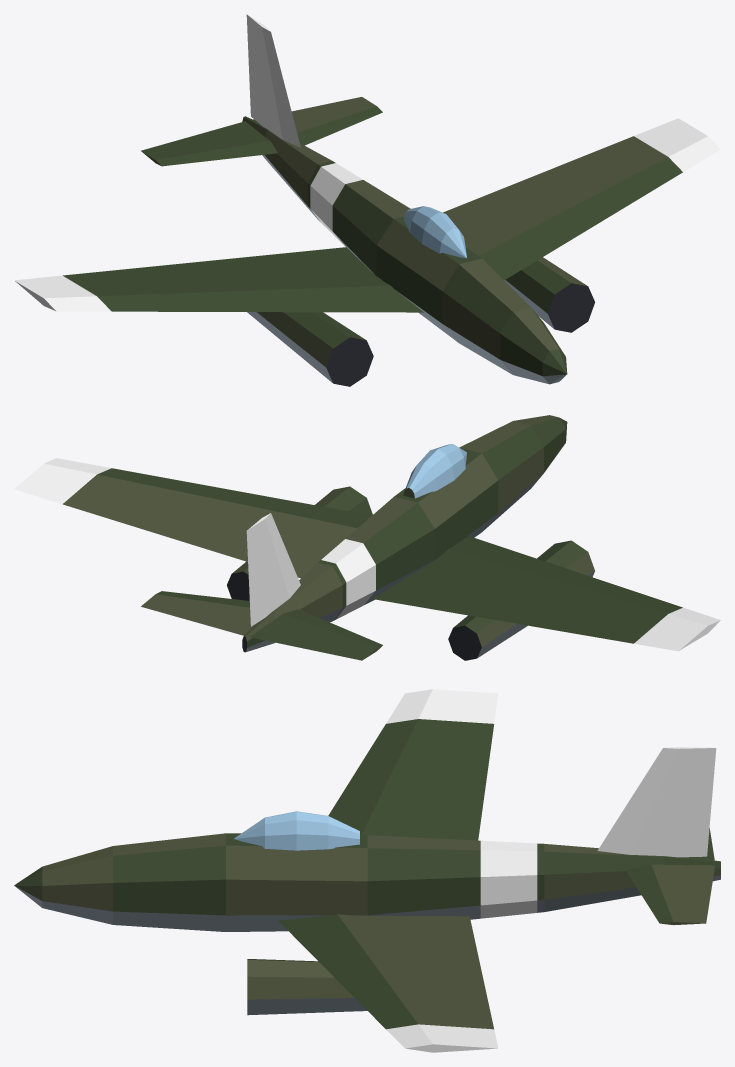
3 renders of one model, top to bottom at view 1: azimuth 30°, elevation 25°; view 2: azimuth 150°, elevation 25°; view 3: azimuth 270°, elevation 25°, orthographic. The views are drawn at different scales.
Visible parts, largest first — view 1: body; view 2: body; view 3: body.
Boxes of the visible parts, box(x1,y1,x2,y2) form: body: box(14, 14, 720, 386); body: box(14, 415, 720, 660); body: box(14, 689, 720, 1052).
Size of the model in its own units: 12.6 by 3.43 by 10.6.
